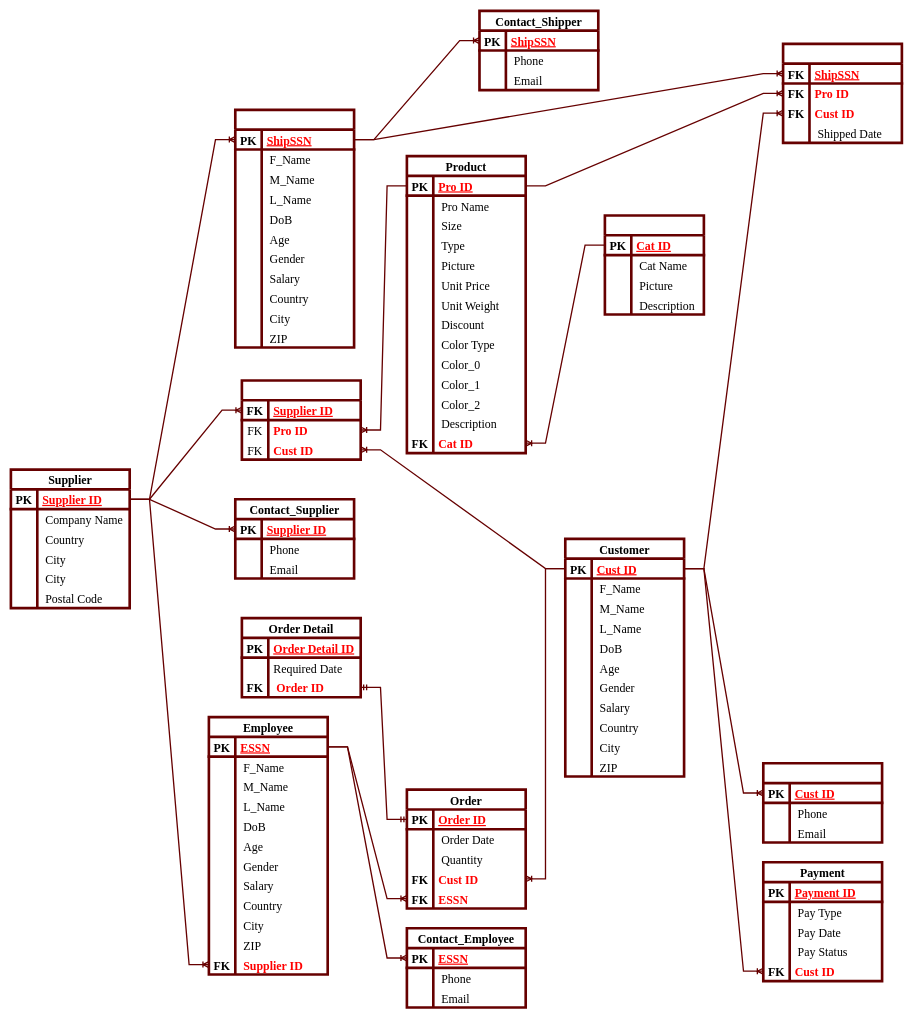
Some shapes in this 913 by 1018 pixel diagram are drawn without their labels. The box of each missing label's shape, as (x1, y1, x2, y2) in pixels:
Category: (603, 214, 705, 315)
Contact_Customer: (762, 762, 883, 843)
Shipped_Products: (781, 42, 903, 144)
Shipper: (234, 108, 355, 348)
Supply: (240, 379, 362, 461)
